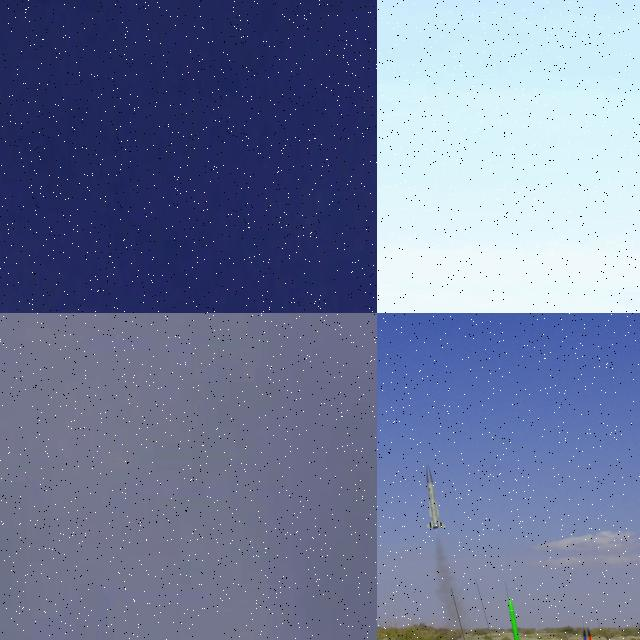Rocket: (425, 464, 446, 530), (508, 597, 529, 640), (587, 628, 600, 640), (581, 629, 591, 640)
